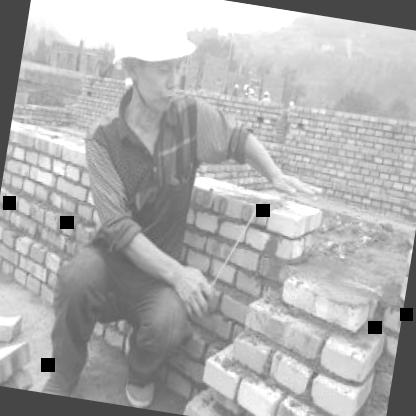helmet: (102, 0, 199, 110)
